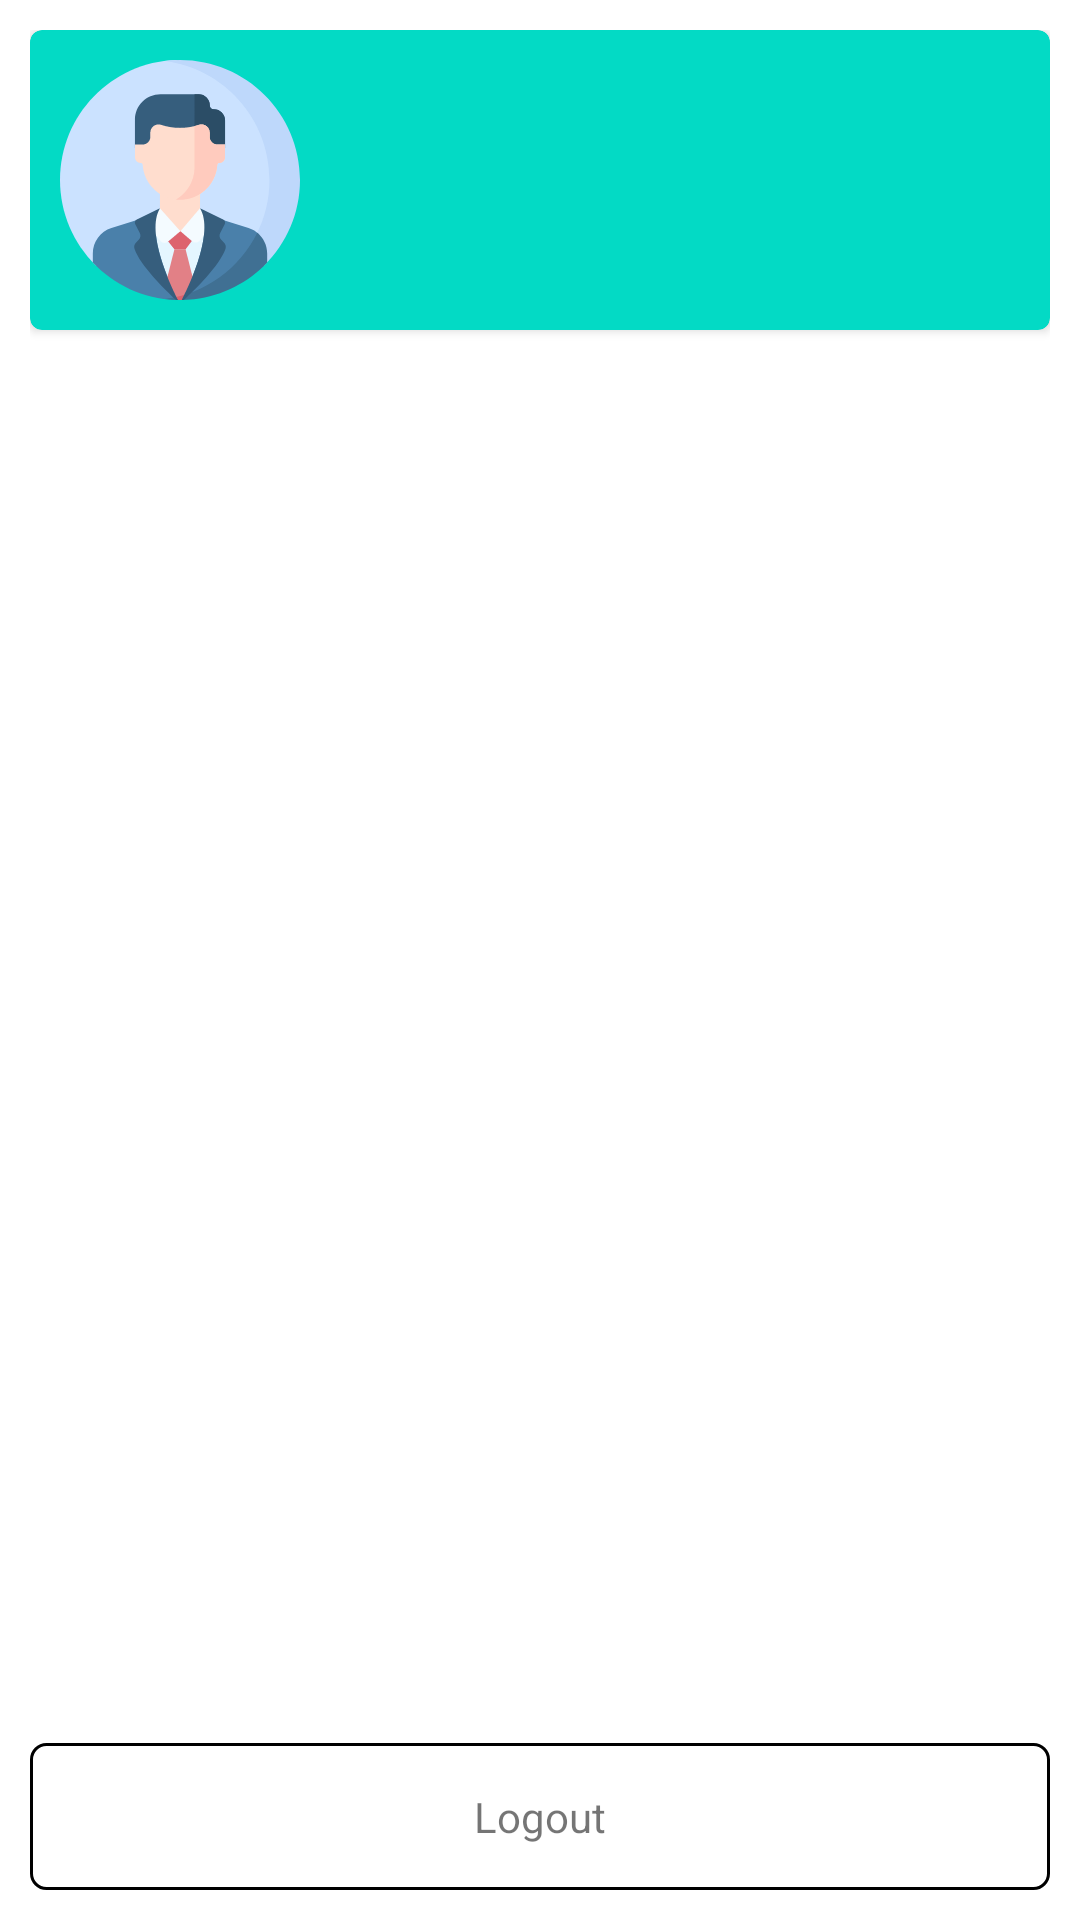

Named icons in this screenshot (1080w x 1920h) and their centers, (x=x, y=y):
profile: (x=180, y=180)
